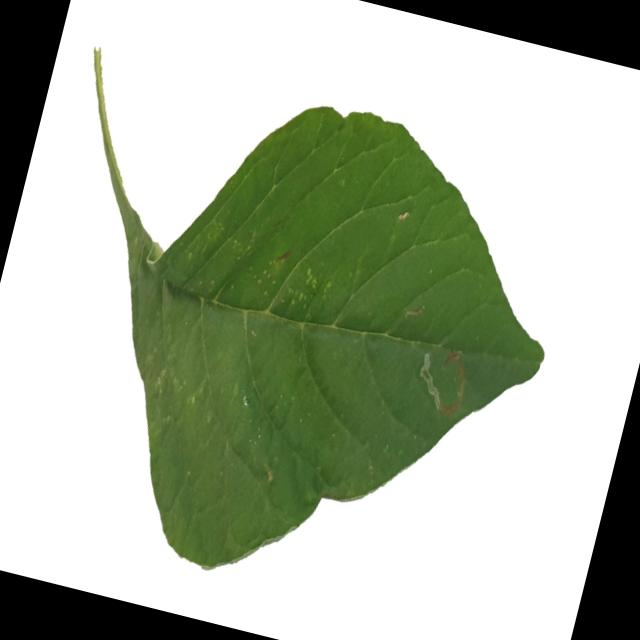Medicinal-Arive Dantu: (0, 32, 593, 639)
